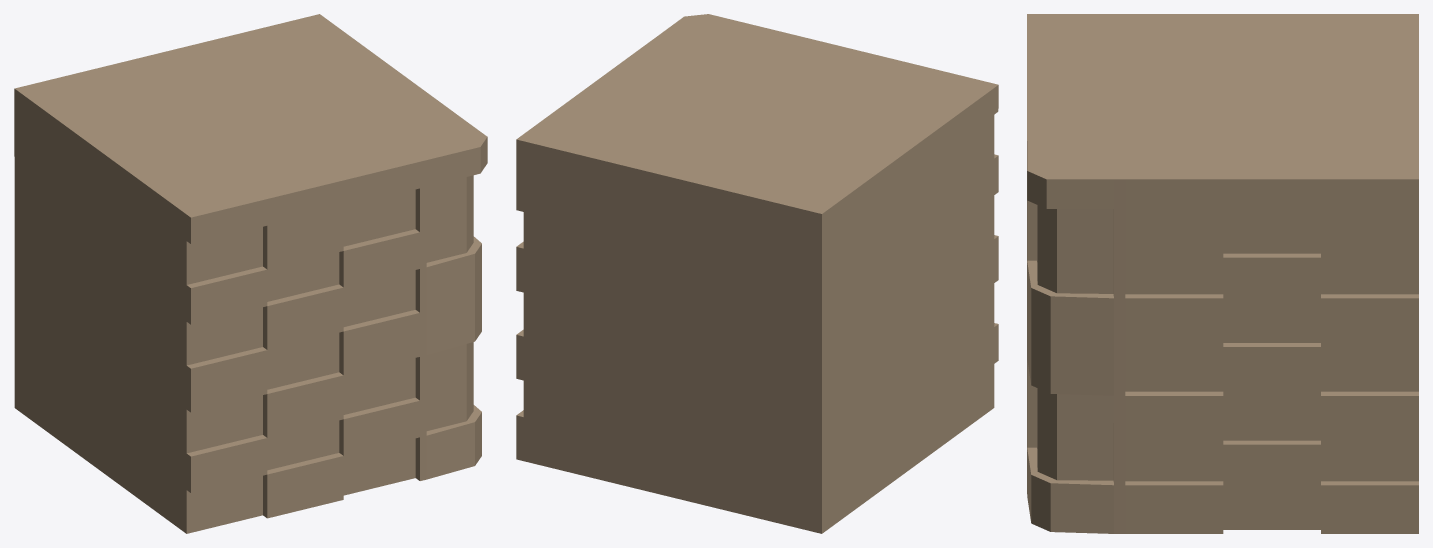
The model's file is cornerBlock.fbx.
3 renders of one model, left to right at view 1: azimuth 30°, elevation 25°; view 2: azimuth 150°, elevation 25°; view 3: azimuth 270°, elevation 25°, orthographic. The views are drawn at different scales.
Parts seen in each view (by area): view 1: cornerBlock; view 2: cornerBlock; view 3: cornerBlock.
Part boxes in pixels (bbox=[...]): cornerBlock: bbox=[14, 14, 487, 533]; cornerBlock: bbox=[516, 14, 998, 533]; cornerBlock: bbox=[1027, 14, 1418, 533].
Size of the model in its own units: 400 by 400 by 400.
